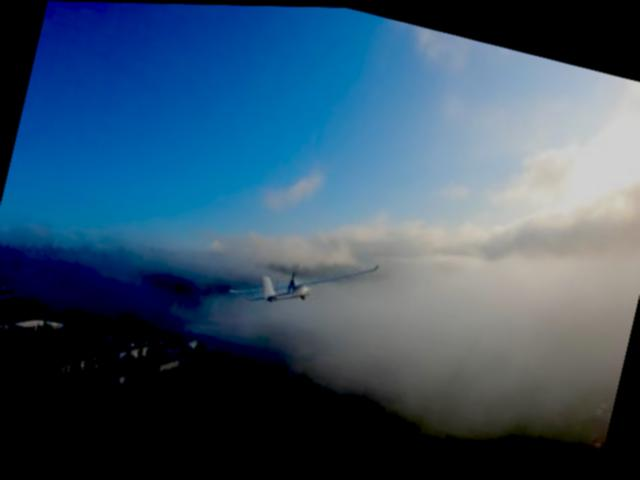uav: (216, 215, 390, 344)
